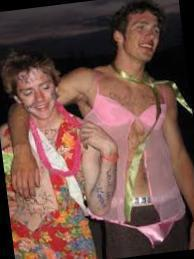Drunk: (16, 72, 57, 117), (125, 10, 159, 60)
